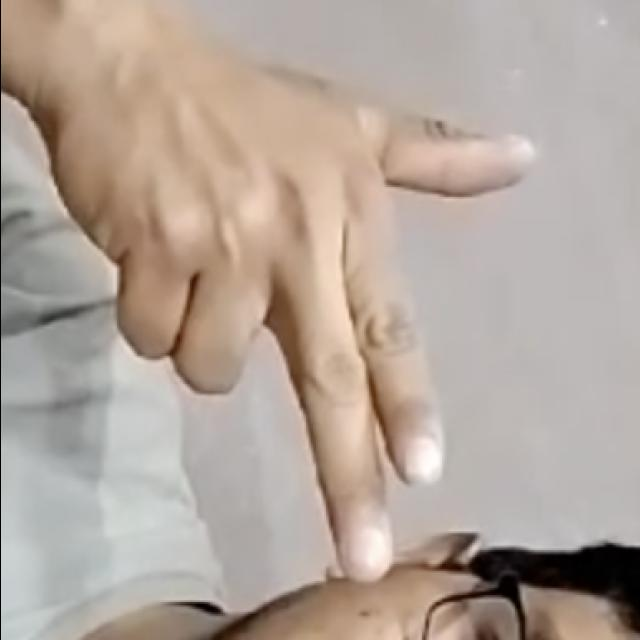H: (14, 16, 543, 592)
